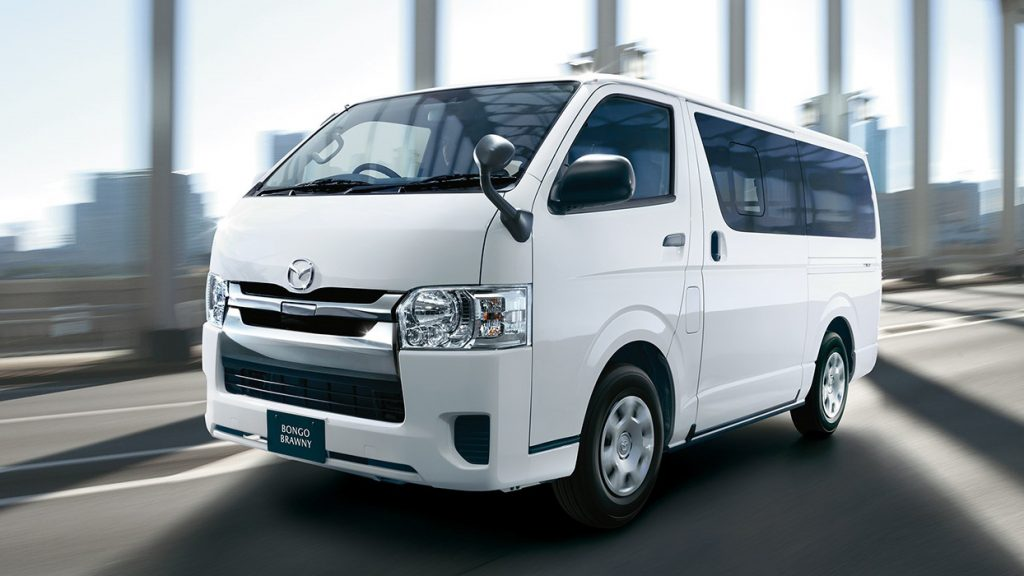van: (200, 71, 884, 531)
